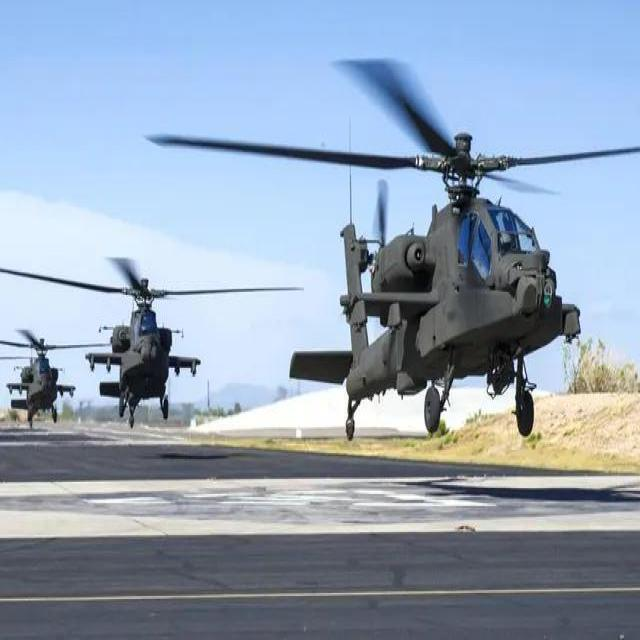MIL_HELO: (144, 53, 640, 449), (0, 232, 313, 425), (0, 321, 106, 428)
